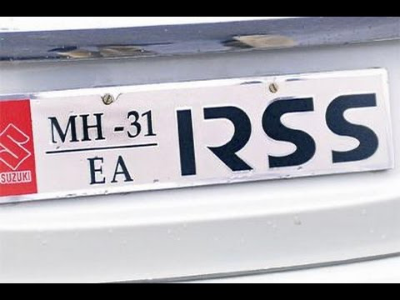licence: (5, 95, 392, 194)
